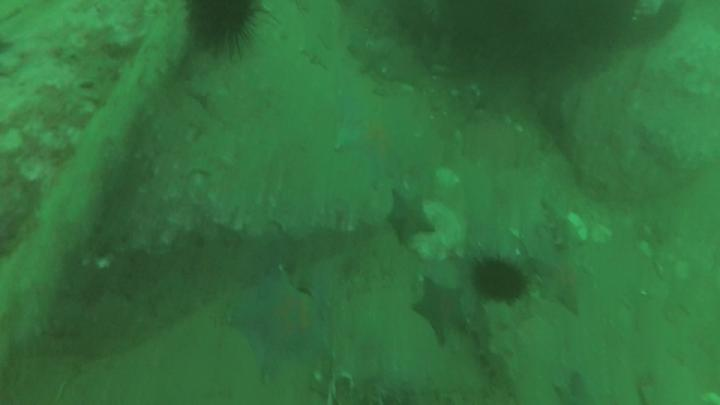scallop: (186, 2, 254, 46), (476, 262, 527, 302)
starfish: (224, 274, 333, 379), (333, 90, 422, 184), (528, 235, 587, 311), (414, 281, 468, 343), (385, 191, 436, 247)
